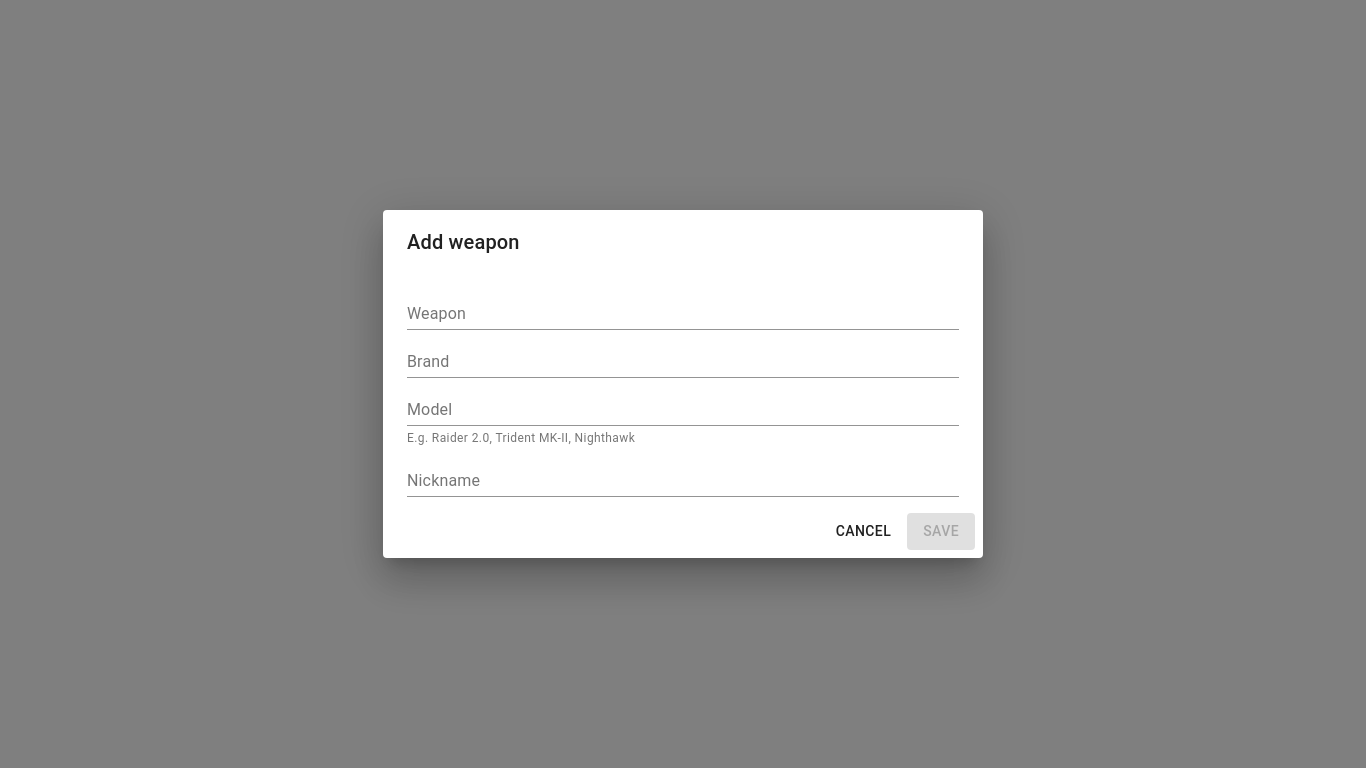
Add armory item dialog › should autocomplete first armory item result when pressing enter
The image size is (1366, 768).
Type "ak" into the field labelled "Weapon". click: [683, 314]
box: [407,298,959,329]
Then press Enter
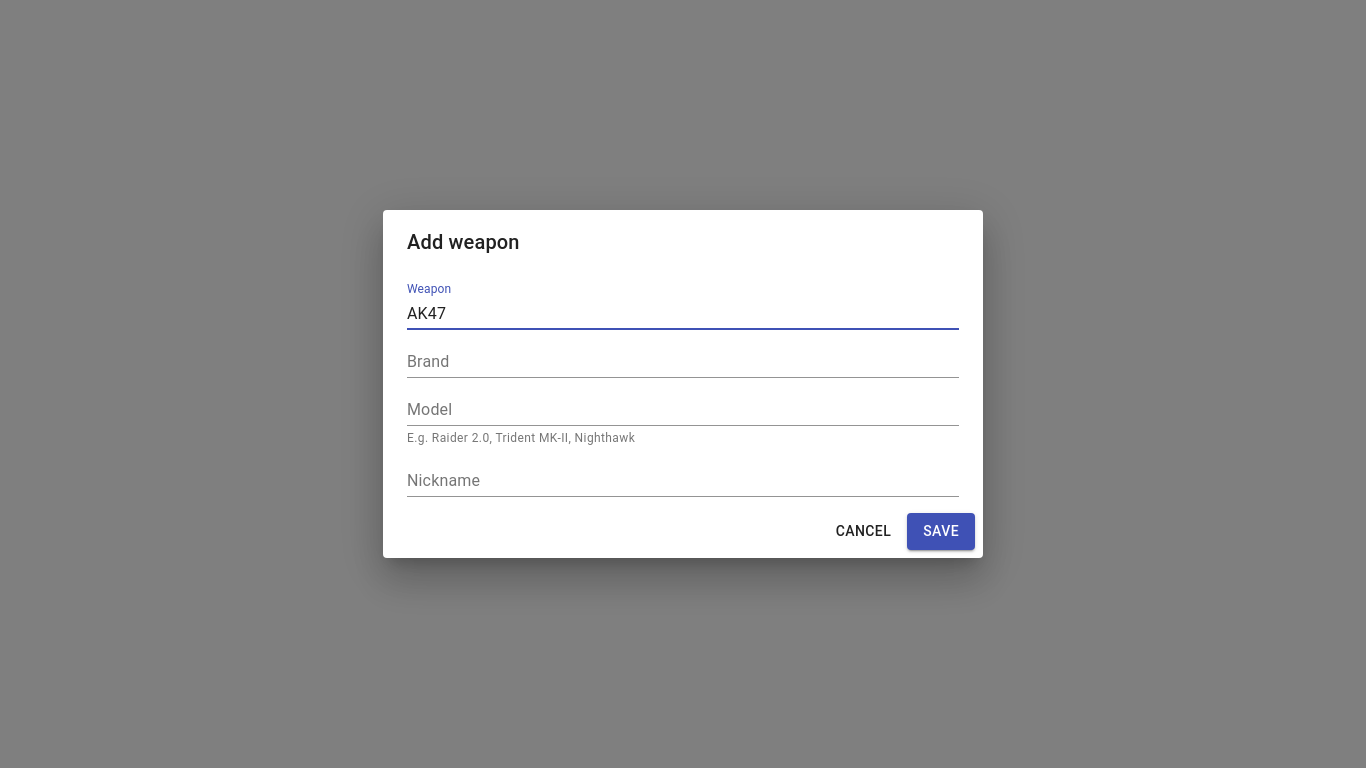
expect the field labelled "Weapon" holds "AK47": met, box [407,298,959,329]
